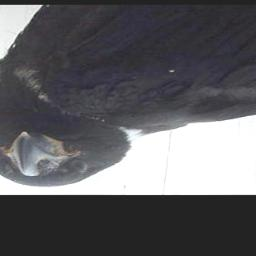Crow: (0, 5, 256, 188)
